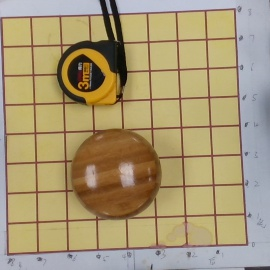chess: (73, 129, 161, 219)
